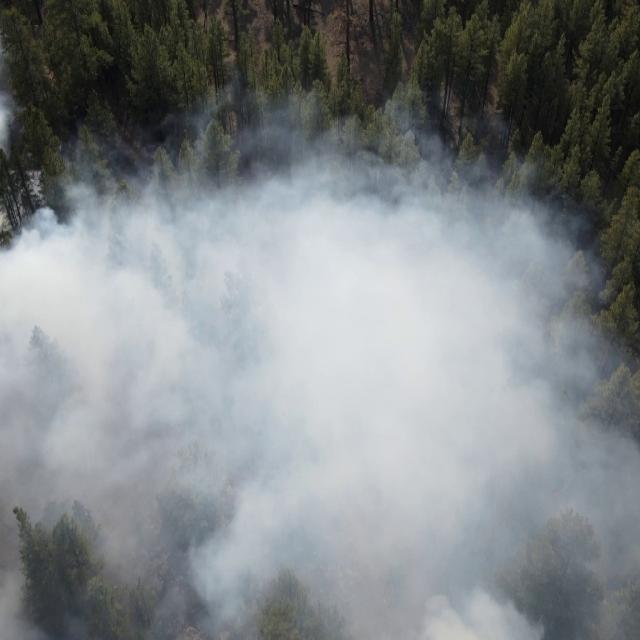smoke: (0, 207, 640, 640), (41, 162, 552, 208), (180, 80, 449, 160), (0, 34, 11, 148)
